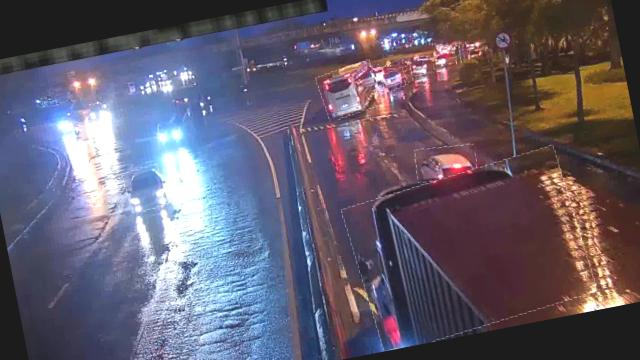Bus: (316, 60, 383, 120), (408, 54, 436, 77)
Car: (414, 140, 481, 185), (122, 164, 168, 213), (381, 68, 408, 92)
Truck: (342, 148, 596, 352)
